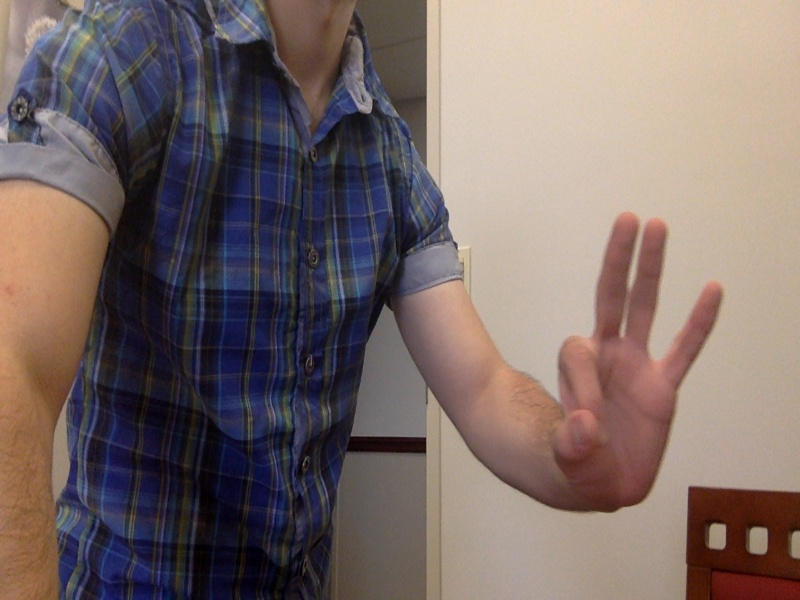3-hand: (557, 209, 727, 520)
